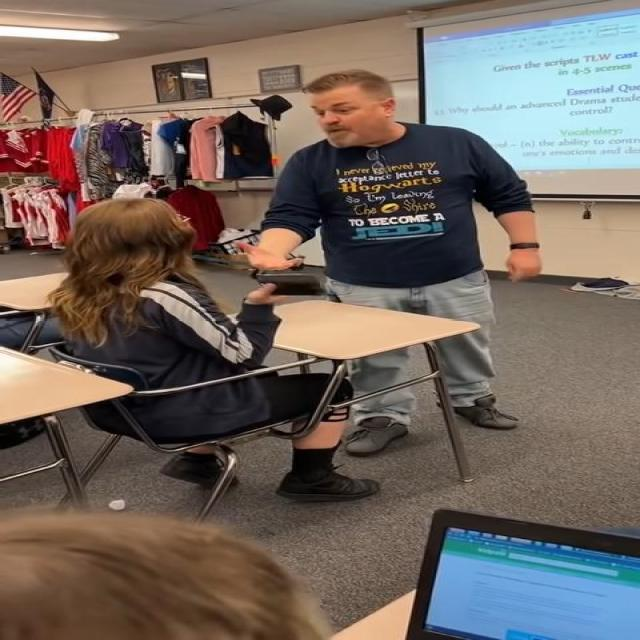NO-Mask: (302, 75, 402, 149)
